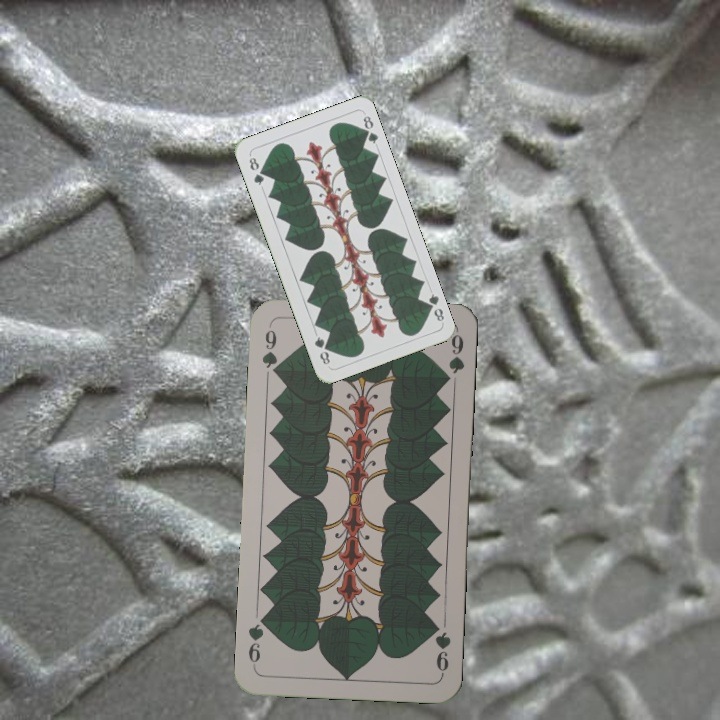G8: (421, 289, 447, 324), (245, 153, 267, 188)
G9: (428, 618, 453, 678), (258, 320, 282, 380)
